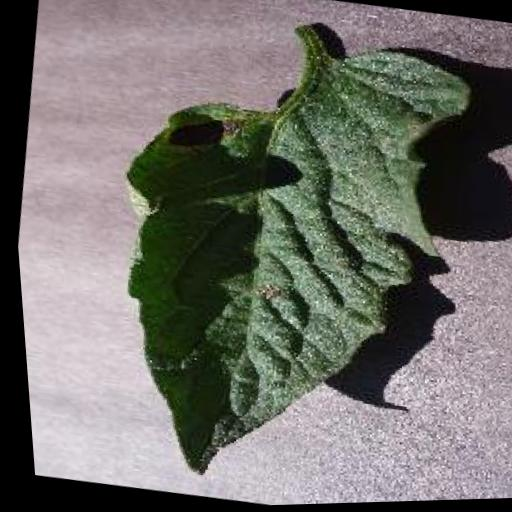Early Blight: (65, 0, 498, 511)
